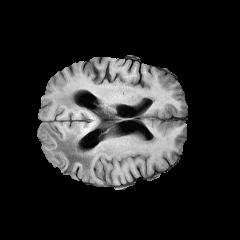glioma: (39, 93, 119, 173)
